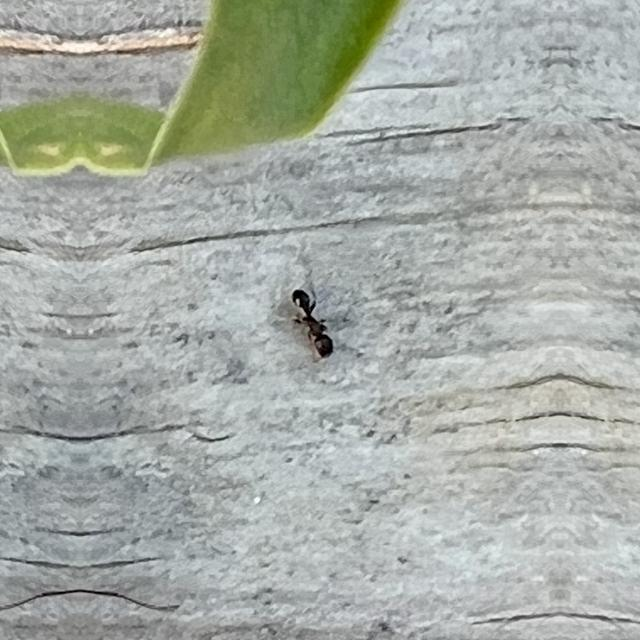Tetramorium: (278, 278, 340, 358)
